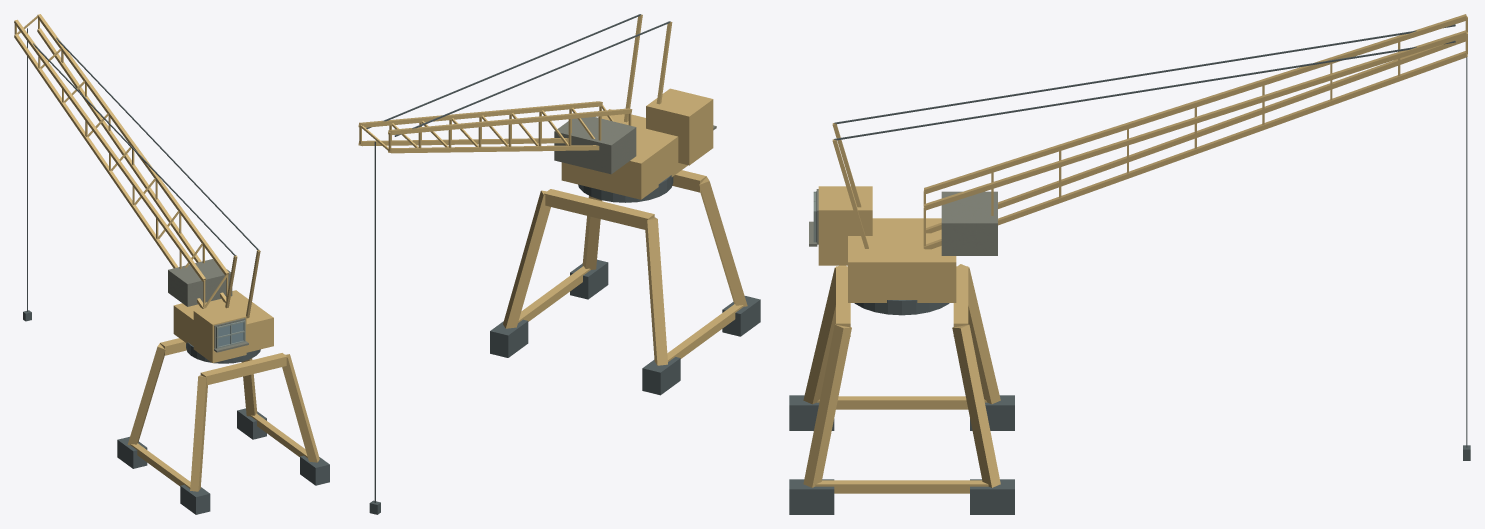
The model's file is port_crane.glb.
The picture shows the model from 3 angles, left to right: view 1: azimuth 30°, elevation 25°; view 2: azimuth 150°, elevation 25°; view 3: azimuth 270°, elevation 25°; orthographic projection. The views are drawn at different scales.
Parts seen in each view (by area): view 1: port_crane; view 2: port_crane; view 3: port_crane.
Boxes of the visible parts, box(x1,y1,x2,y2) form: port_crane: box(14, 14, 329, 514); port_crane: box(358, 14, 760, 514); port_crane: box(789, 14, 1470, 514).
Size of the model in its own units: 9.85 by 21.73 by 30.17.
Materials: 5 (1 with a texture image).
